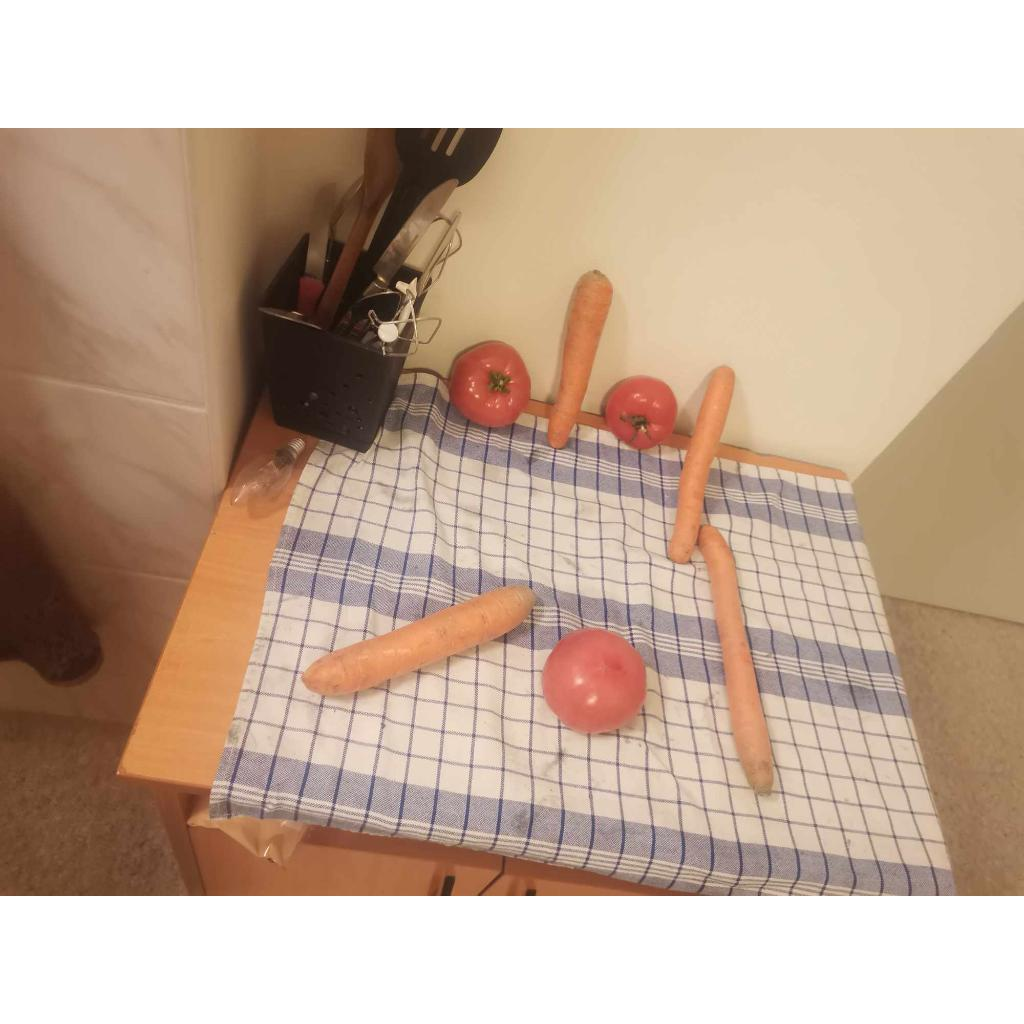carrot: (302, 586, 536, 696), (698, 524, 774, 796), (668, 366, 734, 563), (548, 270, 612, 448)
tomato: (542, 628, 646, 734), (450, 342, 530, 427), (606, 376, 678, 450)
